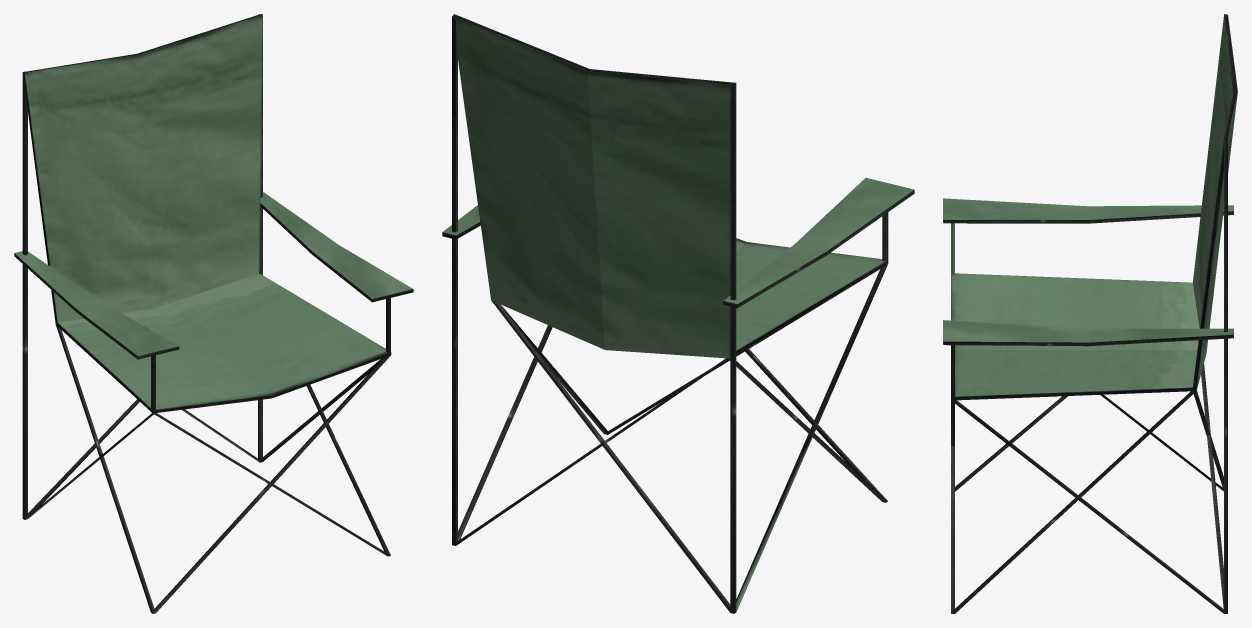
The model's file is CampingChair01B.obj.
3 renders of one model, left to right at view 1: azimuth 30°, elevation 25°; view 2: azimuth 150°, elevation 25°; view 3: azimuth 270°, elevation 25°, orthographic. The views are drawn at different scales.
Parts seen in each view (by area): view 1: CampingChair01B; view 2: CampingChair01B; view 3: CampingChair01B.
Boxes of the visible parts, x1,y1,x2,y2 form: CampingChair01B: (14, 14, 413, 613); CampingChair01B: (442, 14, 914, 613); CampingChair01B: (943, 14, 1237, 613).
Size of the model in its own units: 1.07 by 1.66 by 0.9311.
